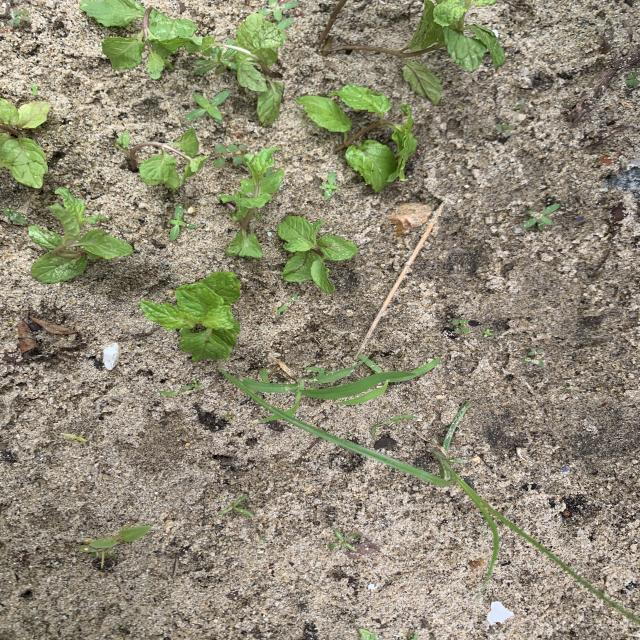crop: (362, 1, 503, 101), (297, 85, 417, 190), (193, 11, 283, 124), (29, 189, 132, 282), (80, 1, 202, 78), (141, 271, 239, 359), (220, 145, 282, 256), (278, 216, 357, 292), (116, 128, 207, 189), (1, 99, 49, 187), (359, 629, 376, 639)
weed: (321, 438, 639, 623), (221, 356, 440, 416), (79, 525, 151, 565), (186, 91, 228, 121), (372, 414, 414, 438), (523, 204, 559, 230), (169, 205, 194, 239), (257, 1, 298, 21), (214, 144, 251, 165), (220, 496, 251, 515), (157, 381, 199, 395), (321, 172, 338, 199), (276, 294, 297, 314), (446, 318, 468, 336), (523, 348, 543, 365), (3, 209, 27, 223), (496, 122, 515, 136), (11, 10, 30, 24), (259, 413, 282, 422), (626, 72, 639, 85), (64, 434, 86, 441), (482, 329, 492, 337), (31, 84, 38, 95)
